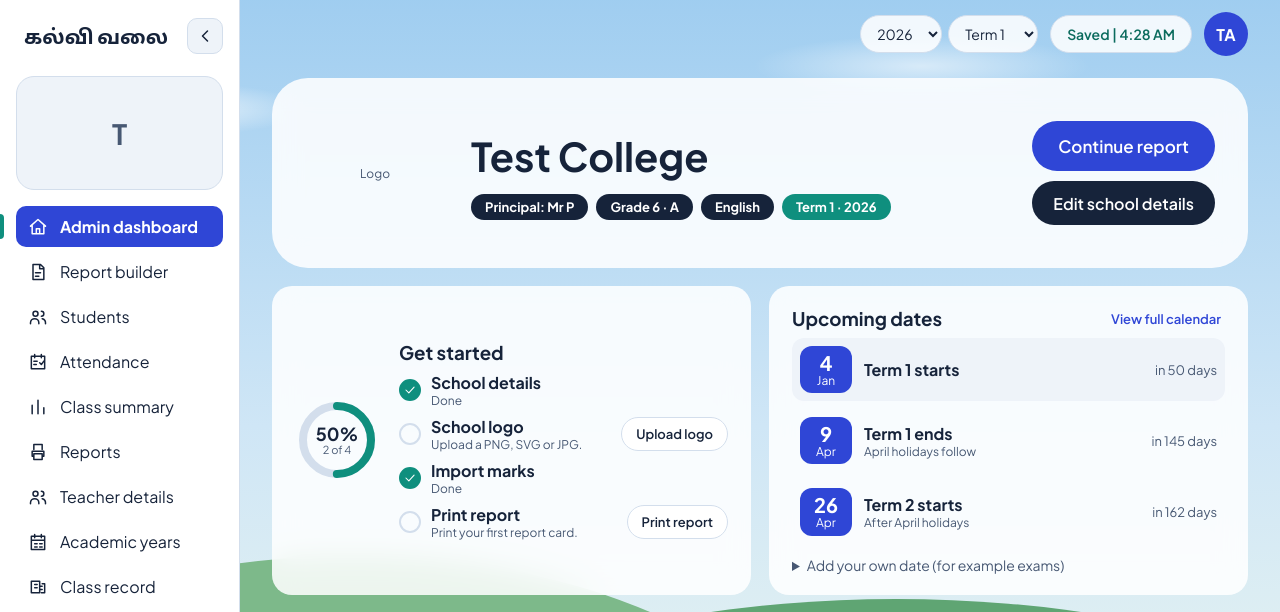
school management flows › periods keep marks separate and old single-list data migrates
Click the button "Report builder".
click(120, 272)  # box left=16, top=251, right=223, bottom=292
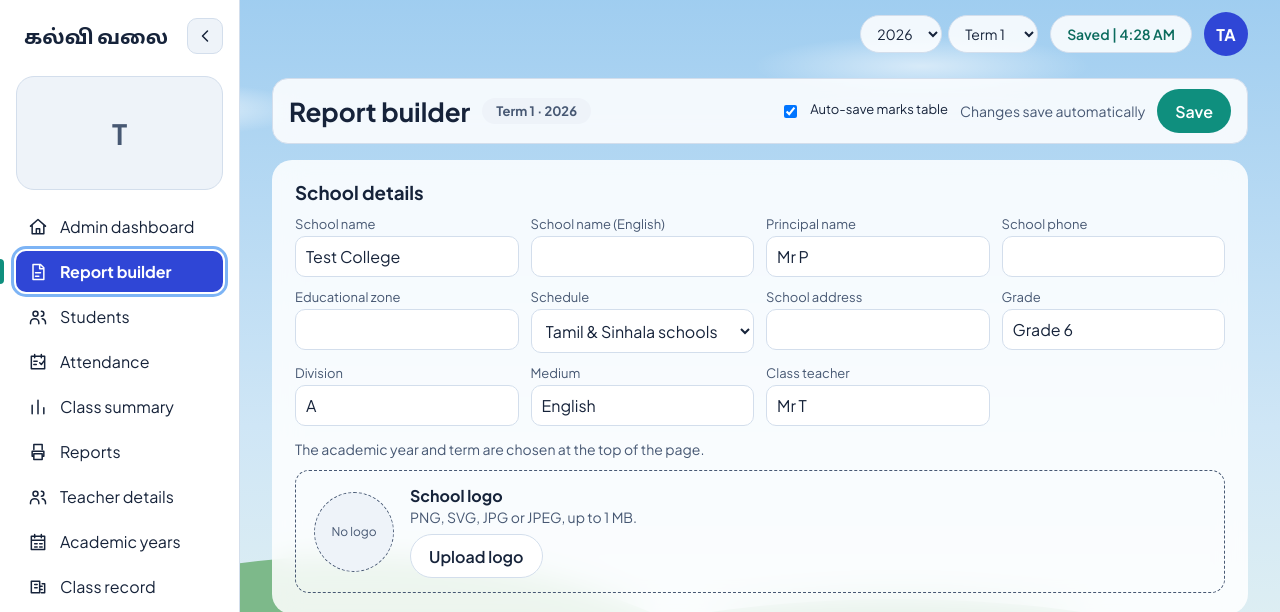
Select "Term 2" in the dropdown named "Term" at (993, 34), box left=948, top=15, right=1038, bottom=53
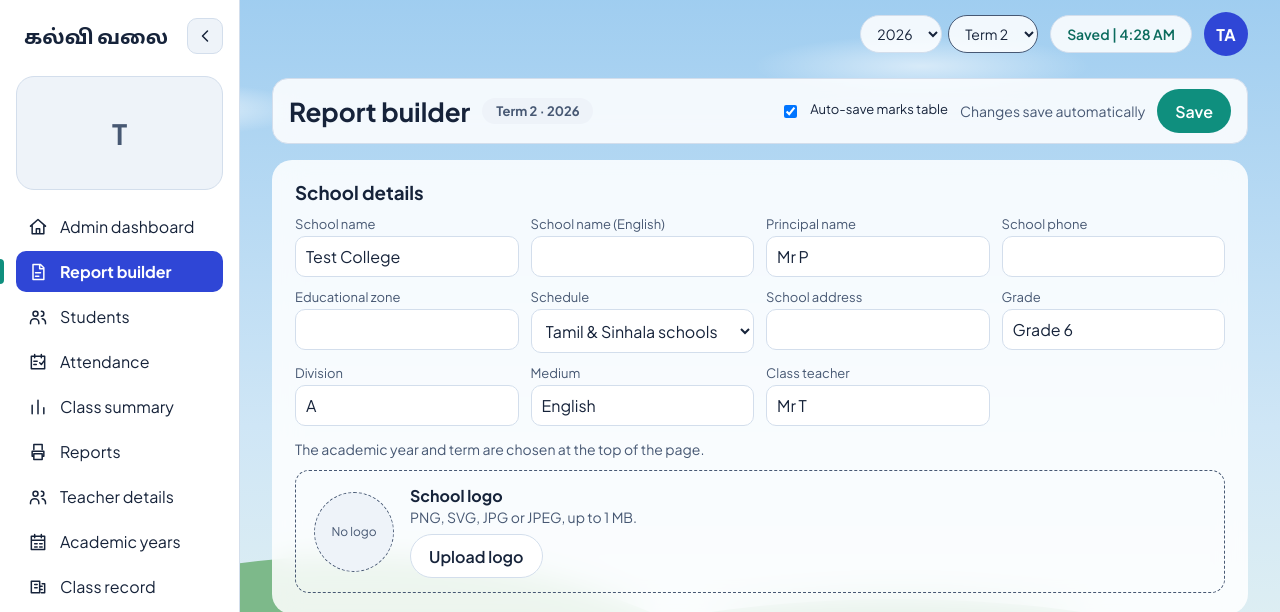
expect the text "Old" is not shown: met
Select "Term 1" in the dropdown named "Term" at (993, 34), box left=948, top=15, right=1038, bottom=53
(page scrolled)
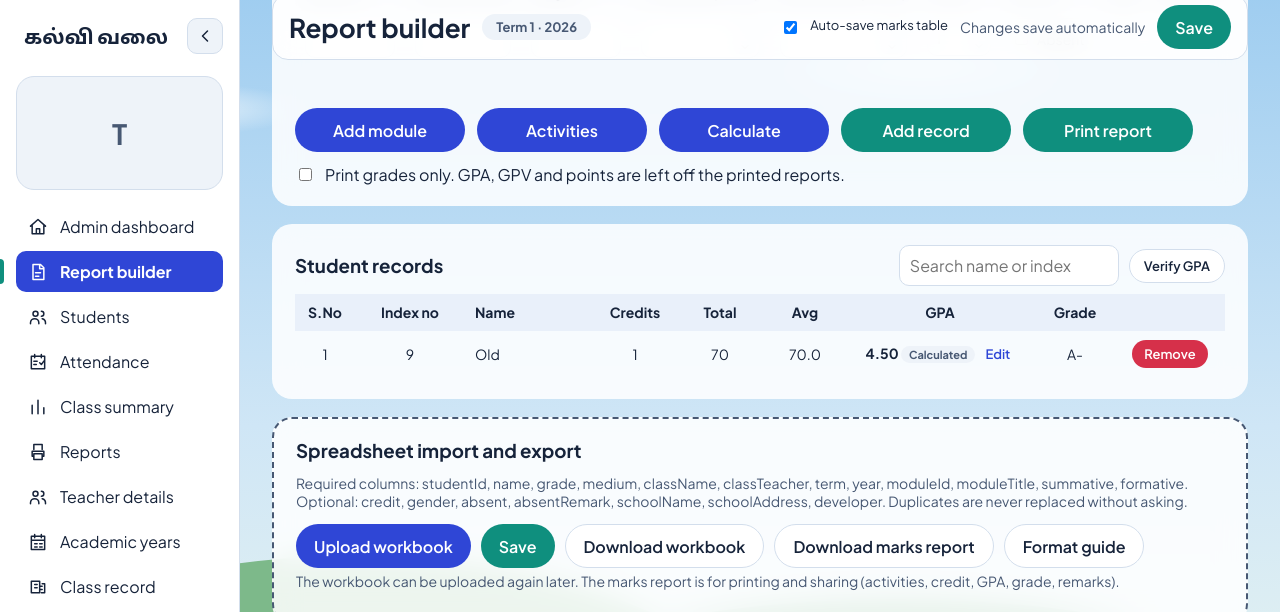
expect the text "Old" is shown: met, box left=465, top=330, right=595, bottom=378
